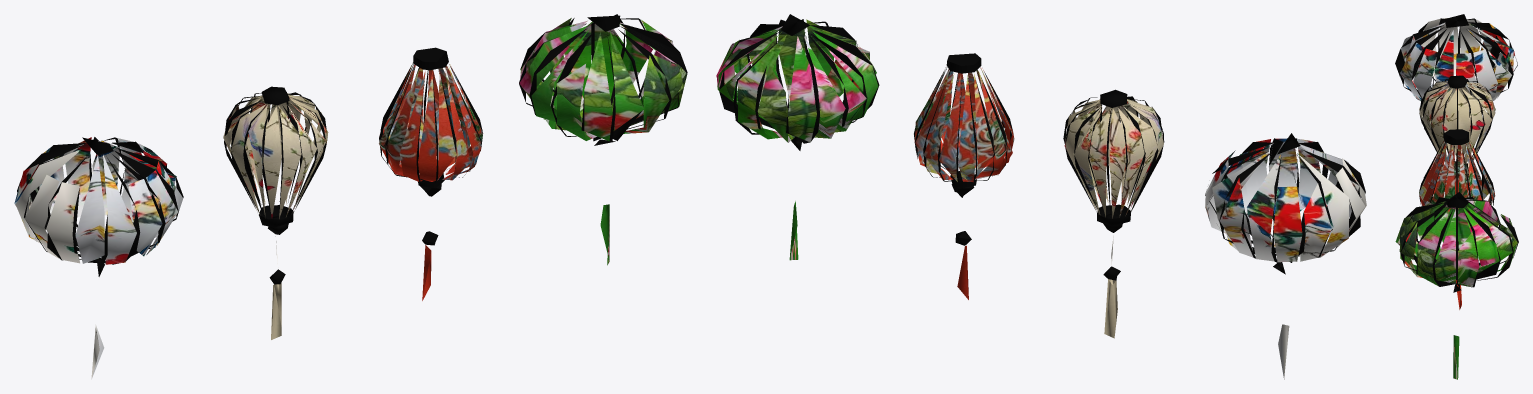
File: den-long-vn.glb
3 renders of one model, left to right at view 1: azimuth 30°, elevation 25°; view 2: azimuth 150°, elevation 25°; view 3: azimuth 270°, elevation 25°, orthographic. The views are drawn at different scales.
Visible parts, largest first — view 1: lantern 2, lantern 4, lantern 1, lantern 3; view 2: lantern 2, lantern 4, lantern 3, lantern 1; view 3: lantern 4, lantern 2, lantern 3, lantern 1.
Part boxes in pixels (box(x1,y1,x2,y2)): lantern 2: box(14, 137, 183, 379); lantern 4: box(519, 14, 687, 265); lantern 1: box(379, 47, 483, 300); lantern 3: box(223, 86, 328, 339); lantern 2: box(1205, 133, 1366, 379); lantern 4: box(716, 14, 879, 260); lantern 3: box(1063, 89, 1164, 338); lantern 1: box(914, 53, 1014, 299); lantern 4: box(1395, 191, 1518, 379); lantern 2: box(1395, 14, 1517, 160); lantern 3: box(1419, 75, 1495, 172); lantern 1: box(1419, 129, 1495, 309).
Bounding box in the file's own units: 1 × 0.3694 × 0.2269.
Materials: 5 (4 with a texture image).
